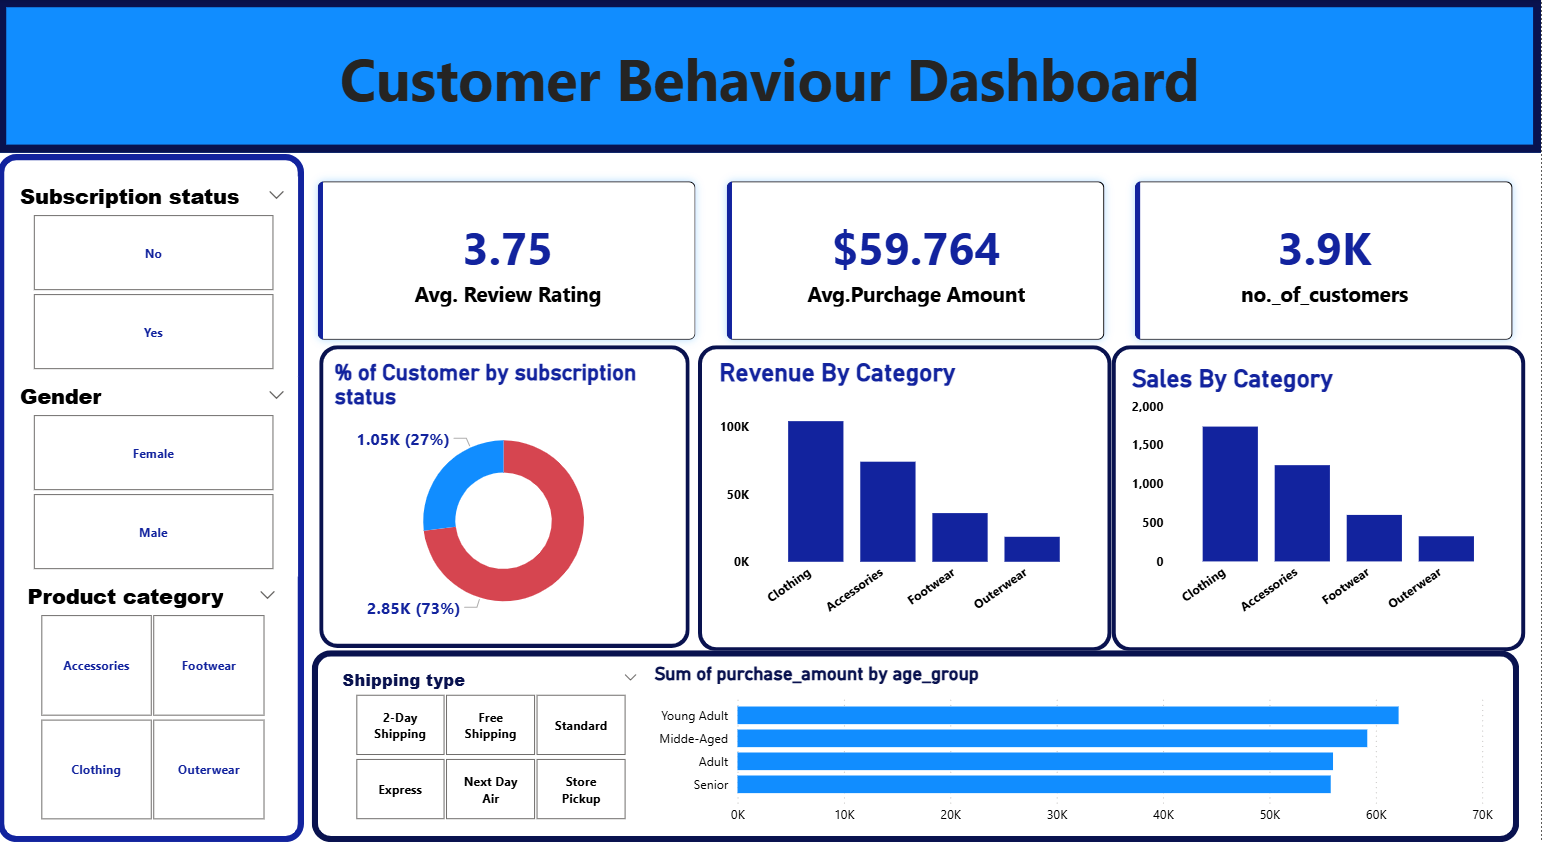

The dashboard page shown, as its layout file describes it:
{"tool":"powerbi","page":{"name":"Page 1","canvas":[1500,820],"ordinal":0},"visuals":[{"type":"cardVisual","fields":{"Data":["customer_data.Avg. Review Rating","customer_data.Avg.Purchage Amount","customer_data.no._of_customers"]},"box":[283,149.6,1217.3,210.7],"z":0},{"type":"shape","box":[0,0,1500.3,149.6],"z":1000},{"type":"textbox","box":[0,17.7,1500.3,131.9],"z":2000},{"type":"shape","box":[312,336.1,360.2,294.3],"z":3000},{"type":"donutChart","title":"% of Customer by  subscription status","fields":{"Category":["customer_data.subscription_status"],"Y":["CountNonNull(customer_data.customer_id)"]},"box":[321.6,350.6,339.3,266.9],"z":4000},{"type":"shape","box":[680.2,336.1,402,297.5],"z":5000},{"type":"shape","box":[1082.2,336.1,402,297.5],"z":6000},{"type":"clusteredColumnChart","title":"Revenue By Category","fields":{"Y":["Sum(customer_data.purchase_amount)"],"Category":["customer_data.category"]},"box":[696.3,349,371.5,268.5],"z":7000},{"type":"clusteredColumnChart","title":"Sales By Category","fields":{"Category":["customer_data.category"],"Y":["CountNonNull(customer_data.customer_id)"]},"box":[1096.7,355.4,373.1,262.1],"z":8000},{"type":"shape","box":[0,151.2,297.5,669],"z":9000},{"type":"slicer","fields":{"Values":["customer_data.subscription_status"]},"box":[8,172.1,283,194.6],"z":10000},{"type":"slicer","fields":{"Values":["customer_data.gender"]},"box":[8,366.6,283,194.6],"z":11000},{"type":"slicer","fields":{"Values":["customer_data.category"]},"box":[16.1,561.2,266.9,242.8],"z":12000},{"type":"shape","box":[305.5,633.6,1173.9,186.5],"z":13000},{"type":"slicer","fields":{"Values":["customer_data.shipping_type"]},"box":[321.6,644.8,312,159.2],"z":14000},{"type":"clusteredBarChart","fields":{"Category":["customer_data.age_group"],"Y":["Sum(customer_data.purchase_amount)"]},"box":[633.6,644.8,824.9,165.6],"z":15000}]}

Visuals, with their boxes in screenshot pixels (x1, y1, x2, y2), scaled from the page's 1500x820 canvas onto the 1542x842 screenshot:
cardVisual - customer_data.Avg. Review Rating x customer_data.Avg.Purchage Amount: box=[291, 154, 1541, 370]
shape: box=[0, 0, 1541, 154]
textbox: box=[0, 18, 1541, 154]
shape: box=[321, 345, 691, 647]
"% of Customer by  subscription status" donutChart: box=[331, 360, 679, 634]
shape: box=[699, 345, 1113, 651]
shape: box=[1113, 345, 1526, 651]
"Revenue By Category" clusteredColumnChart: box=[716, 358, 1098, 634]
"Sales By Category" clusteredColumnChart: box=[1127, 365, 1511, 634]
shape: box=[0, 155, 306, 841]
slicer - customer_data.subscription_status: box=[8, 177, 299, 377]
slicer - customer_data.gender: box=[8, 376, 299, 576]
slicer - customer_data.category: box=[17, 576, 291, 826]
shape: box=[314, 651, 1521, 841]
slicer - customer_data.shipping_type: box=[331, 662, 651, 826]
clusteredBarChart - customer_data.age_group x Sum(customer_data.purchase_amount): box=[651, 662, 1499, 832]
